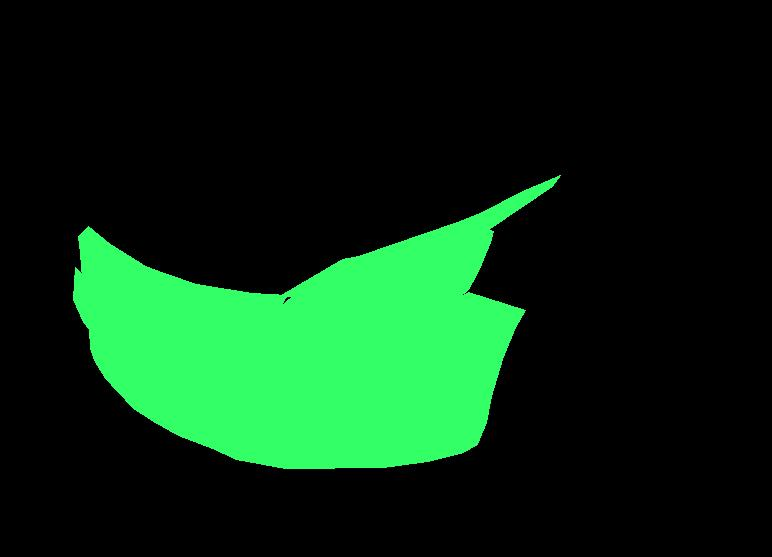Broken part: (73, 267, 525, 468), (279, 175, 560, 296), (257, 227, 493, 347), (78, 226, 287, 356)
